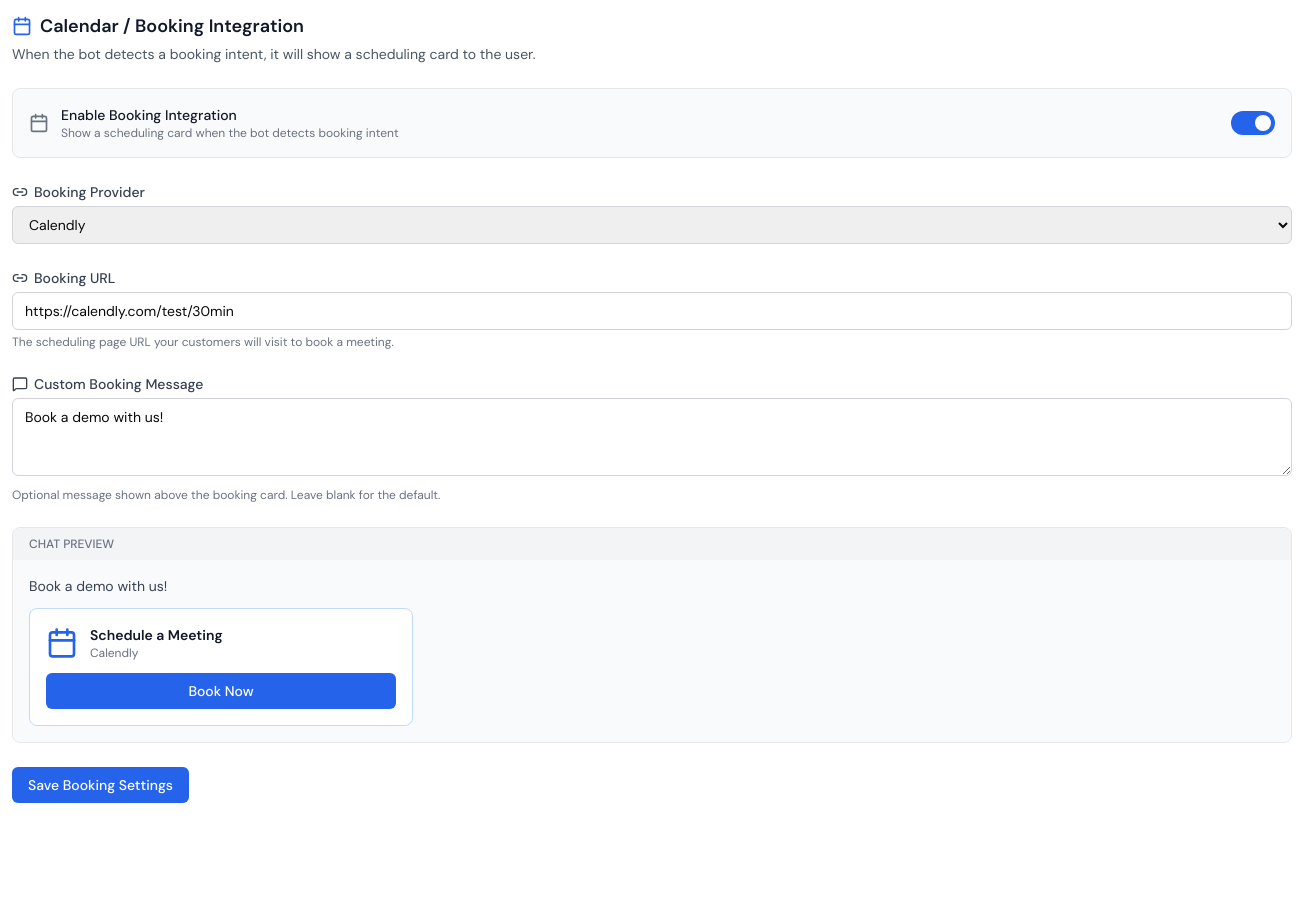
Test case: BookingPanel › saves booking settings and shows success
Click the button with test id "save-booking-btn". click: (100, 785)
box: [12, 767, 189, 803]
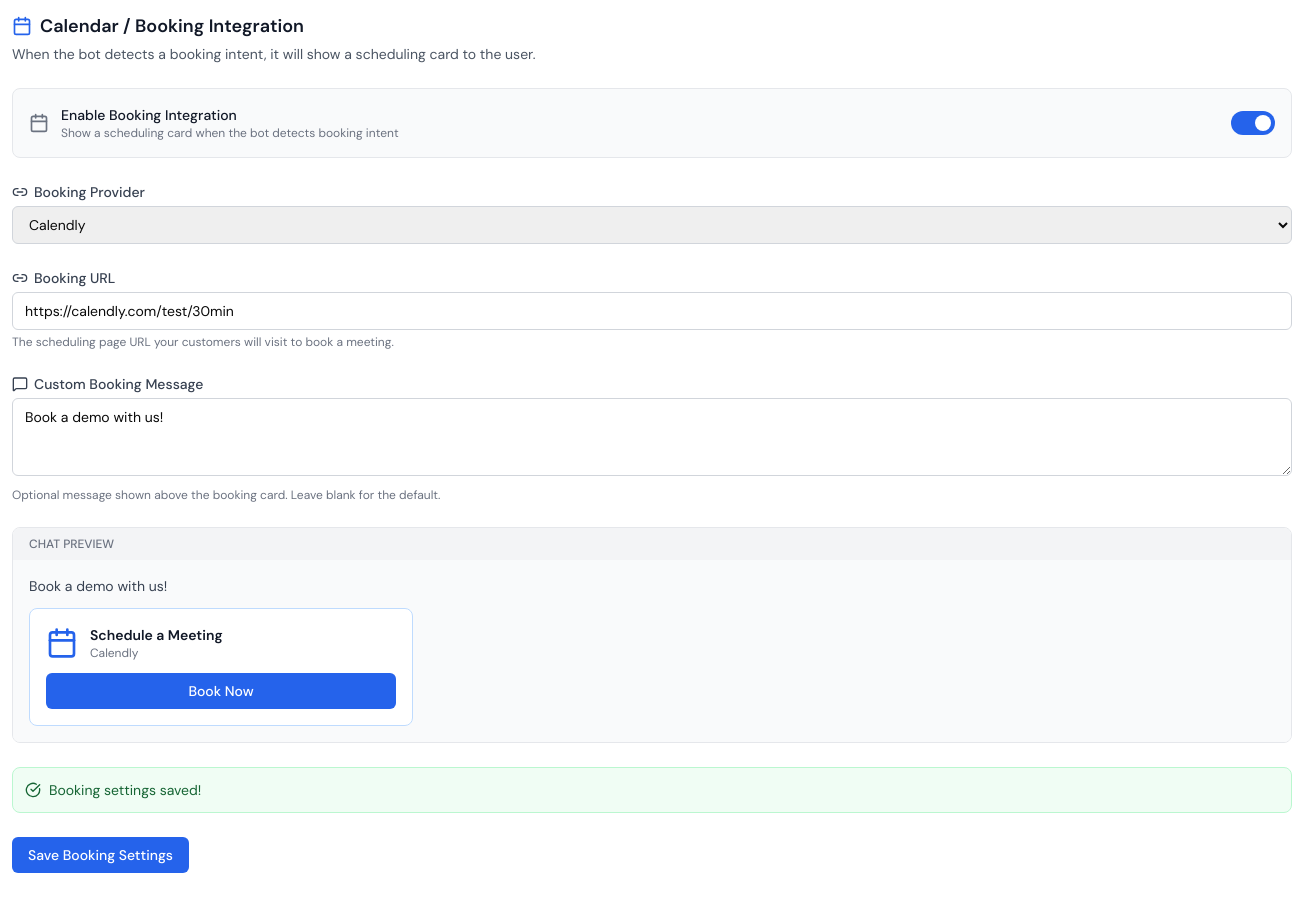
expect the element with test id "booking-status" is shown: met, box [12, 767, 1292, 813]
